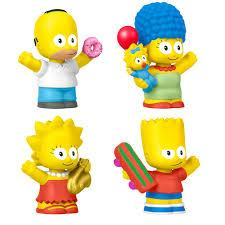Bart: (108, 118, 205, 216)
Homer: (18, 6, 105, 114)
Lisa: (15, 116, 99, 219)
Maggie: (119, 44, 160, 97)
Marge: (113, 1, 215, 116)
